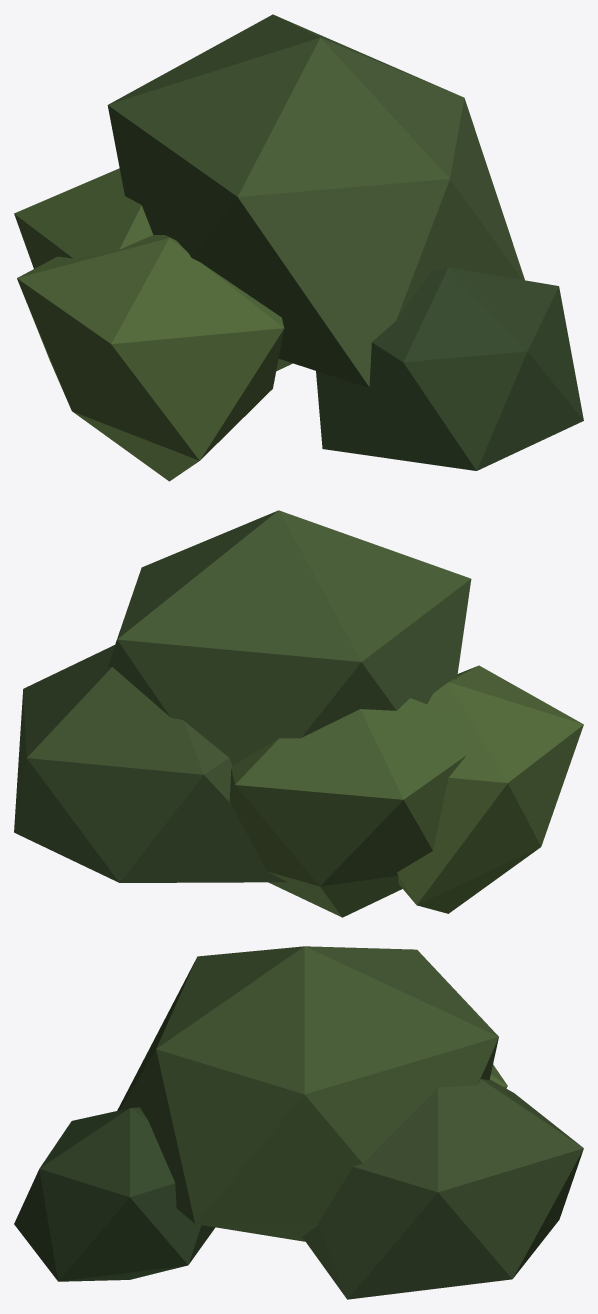
Rendered from arbusto_1.glb.
The picture shows the model from 3 angles, top to bottom: view 1: azimuth 30°, elevation 25°; view 2: azimuth 150°, elevation 25°; view 3: azimuth 270°, elevation 25°; orthographic projection. The views are drawn at different scales.
Parts seen in each view (by area): view 1: arbusto_1.001; view 2: arbusto_1.001; view 3: arbusto_1.001.
Part boxes in pixels (x1,y1,x2,y2): arbusto_1.001: (14, 14, 583, 481); arbusto_1.001: (14, 510, 583, 917); arbusto_1.001: (14, 946, 583, 1299).
Size of the model in its own units: 1.19 by 0.96 by 1.41.
